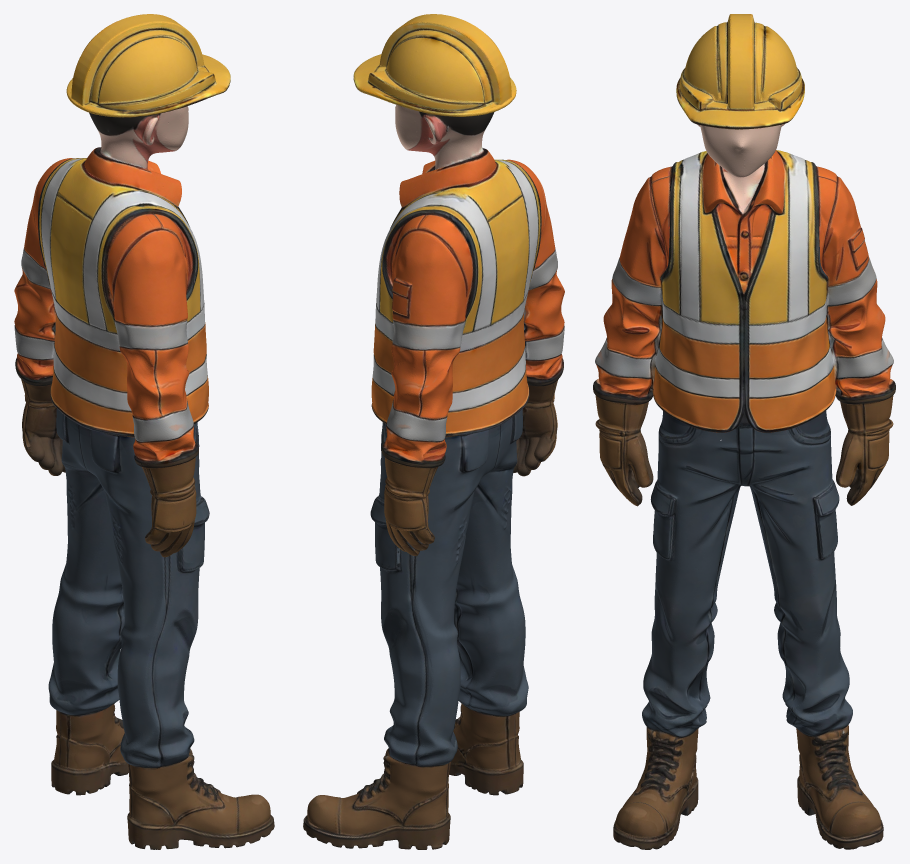
Rendered from construction+worker+3d+model.glb.
The picture shows the model from 3 angles, left to right: view 1: azimuth 30°, elevation 25°; view 2: azimuth 150°, elevation 25°; view 3: azimuth 270°, elevation 25°; orthographic projection.
Parts seen in each view (by area): view 1: tripo_node_0aadb633-ba34-4478-8c15-7c1ae3bffbab; view 2: tripo_node_0aadb633-ba34-4478-8c15-7c1ae3bffbab; view 3: tripo_node_0aadb633-ba34-4478-8c15-7c1ae3bffbab.
Boxes of the visible parts, x1=… form: tripo_node_0aadb633-ba34-4478-8c15-7c1ae3bffbab: x1=14, y1=14, x2=274, y2=849; tripo_node_0aadb633-ba34-4478-8c15-7c1ae3bffbab: x1=303, y1=14, x2=564, y2=849; tripo_node_0aadb633-ba34-4478-8c15-7c1ae3bffbab: x1=593, y1=14, x2=895, y2=849.
Size of the model in its own units: 0.2051 by 1 by 0.3469.
Materials: 1 (1 with a texture image).
